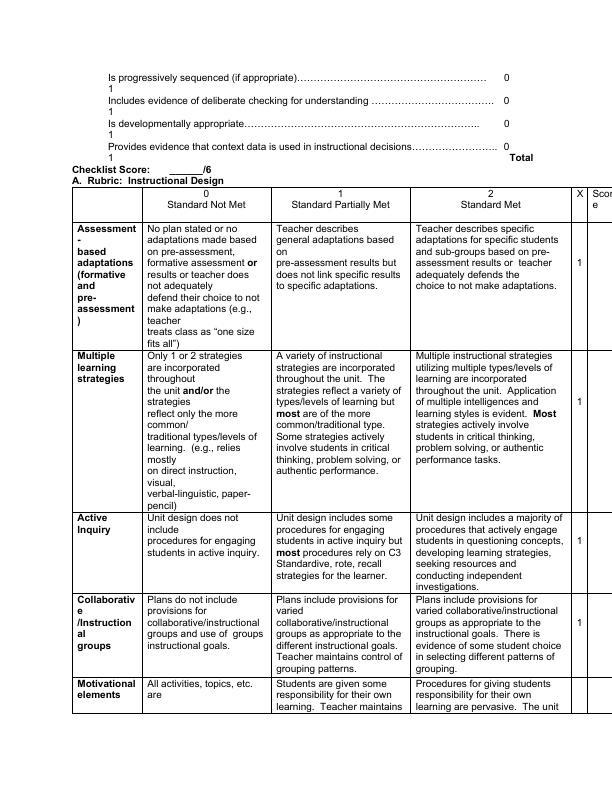input: (164, 166, 202, 176)
table: (70, 184, 612, 721)
text: (97, 66, 539, 163), (67, 173, 227, 185), (71, 165, 149, 175)
